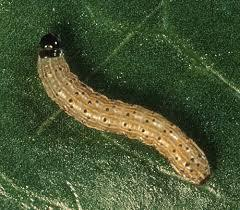fallarmy_worm: (36, 29, 215, 186)
